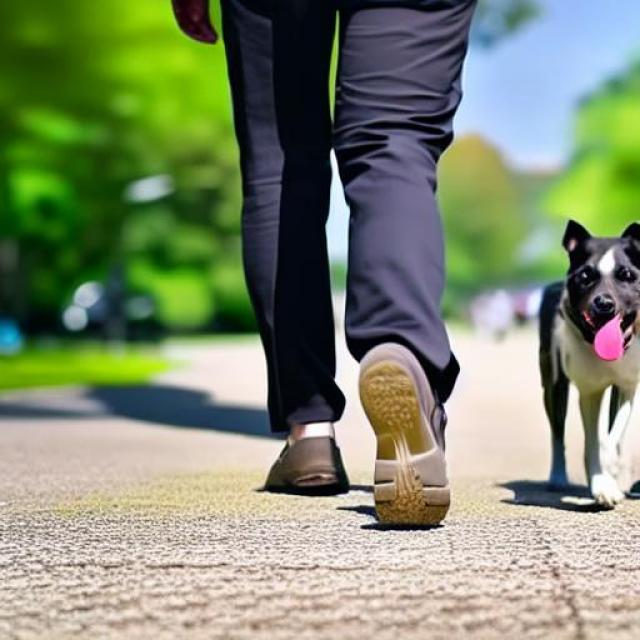Unleashed_Dog: (232, 0, 639, 509)
